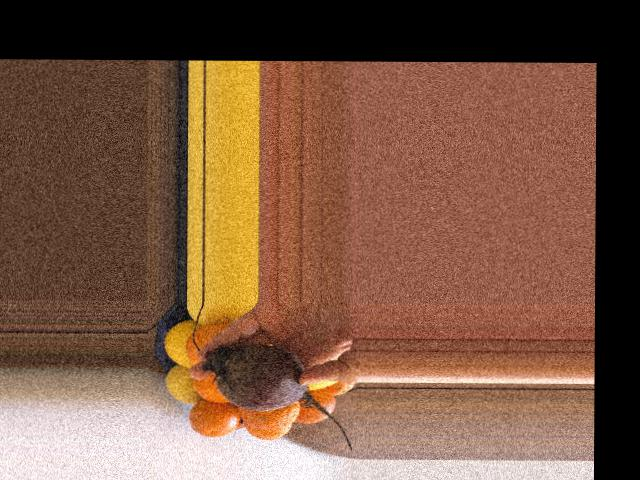beet: (204, 344, 352, 449)
